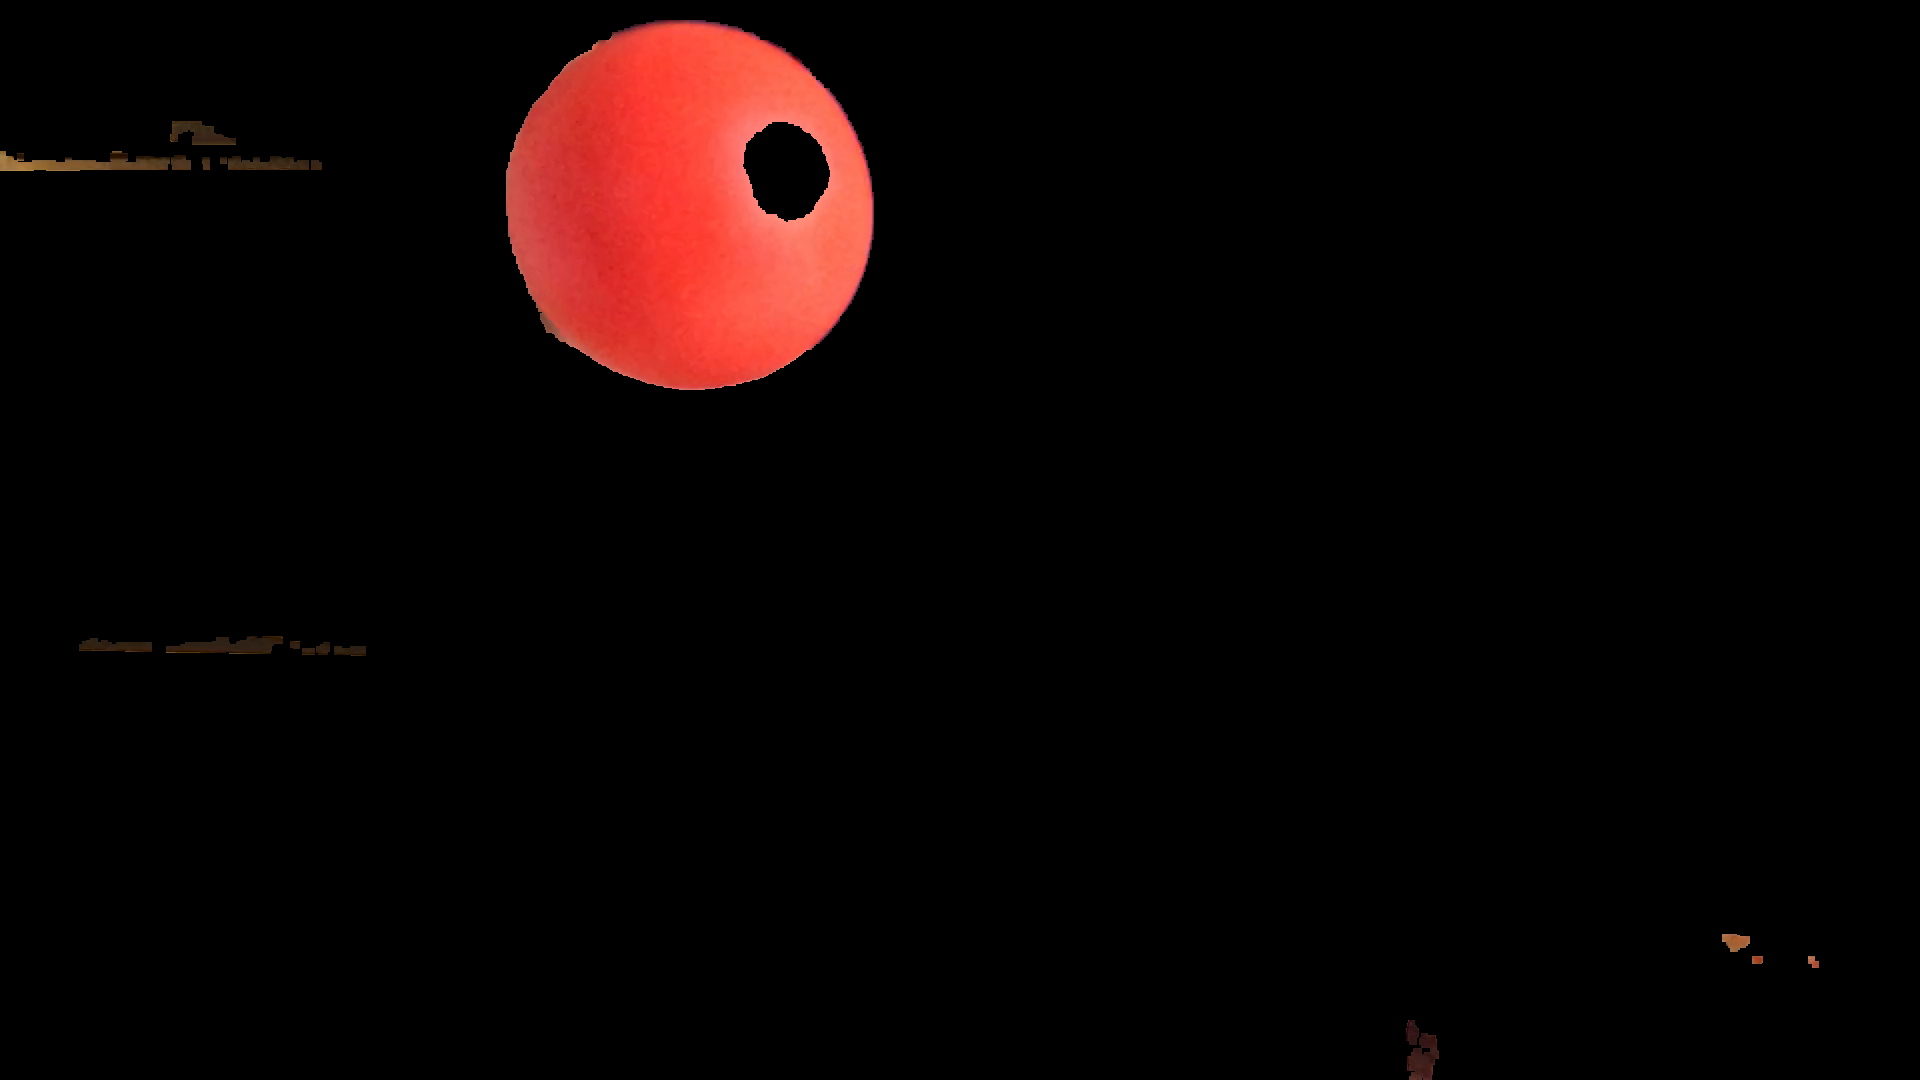Ball: (502, 25, 877, 378)
